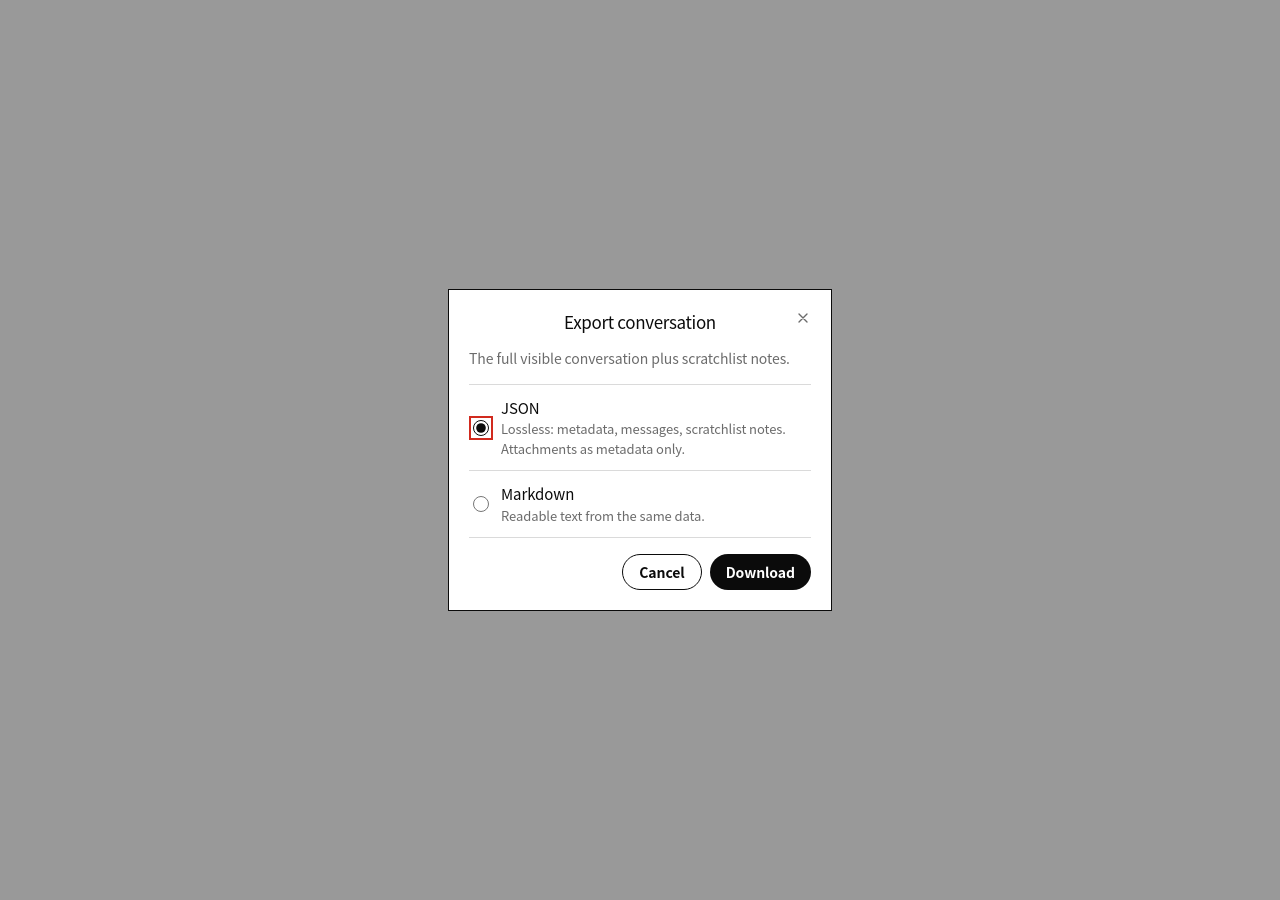
Test: SessionExportDialog large export confirmation › localizes server resource-limit details instead of showing the raw 413 response
Click the button "Download".
click(760, 572)  # box [710,554,811,590]
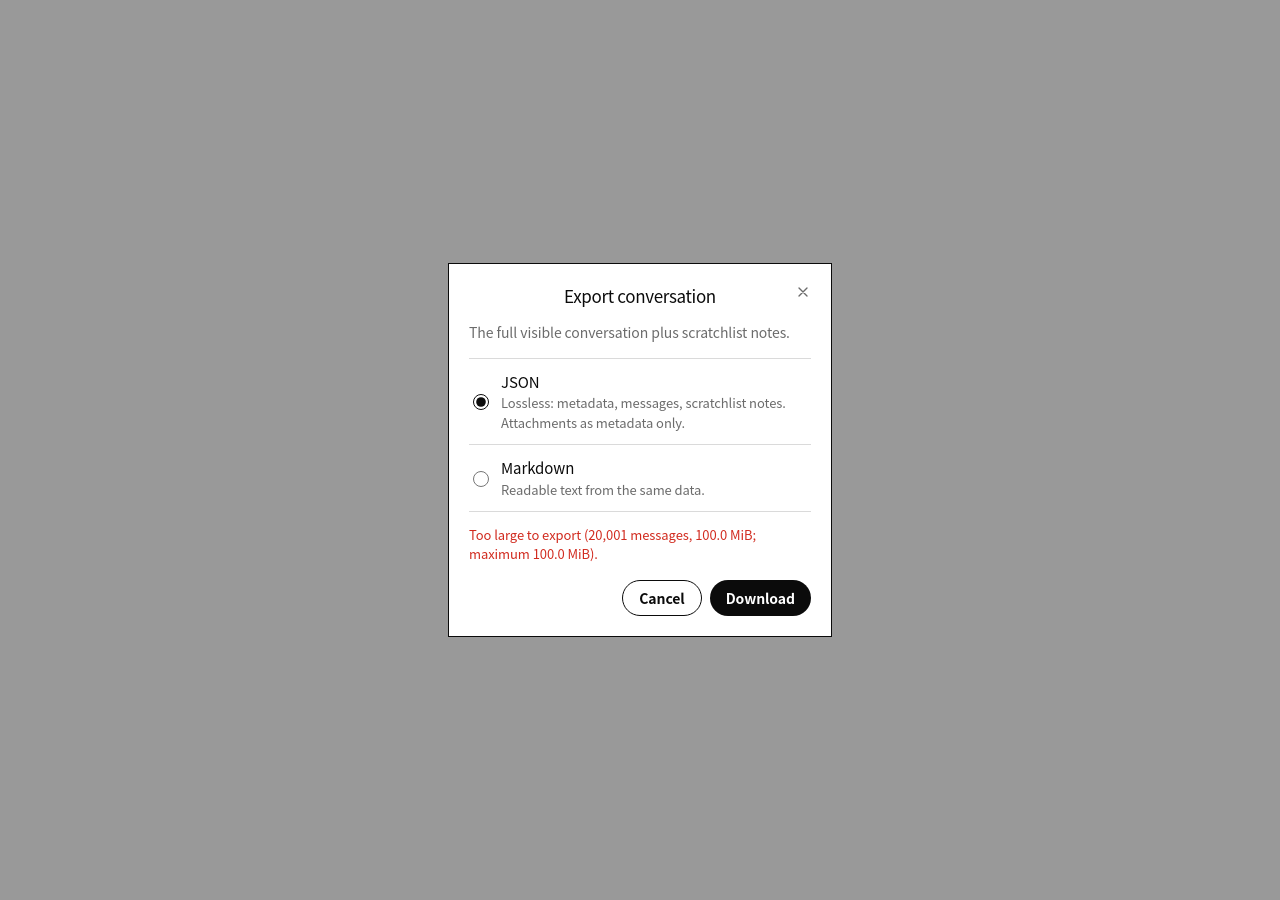
Now the text "Too large to export (20,001 messages, 100.0 MiB; maximum 100.0 MiB)." is shown, box [469,525,756,563]
